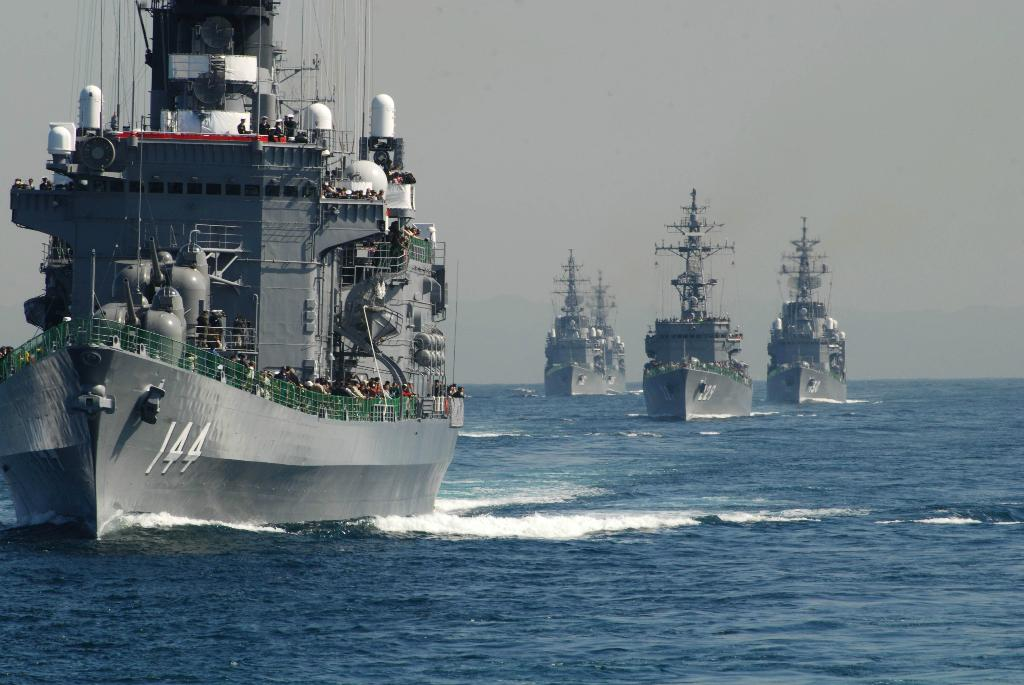Warship: (0, 0, 464, 544), (644, 190, 752, 420), (767, 215, 847, 405), (538, 246, 628, 402)
